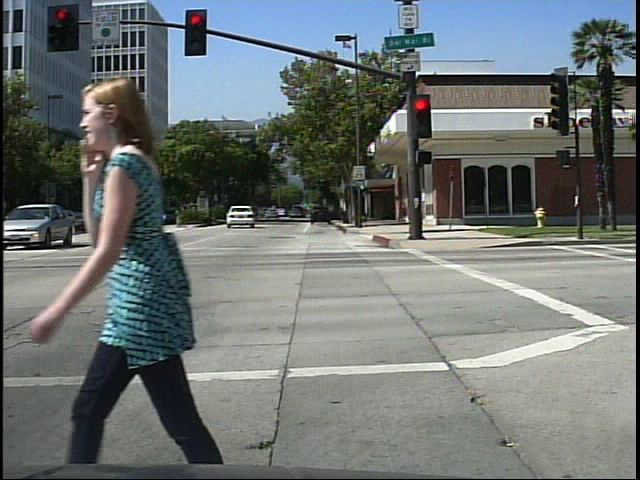person: (70, 63, 255, 466)
